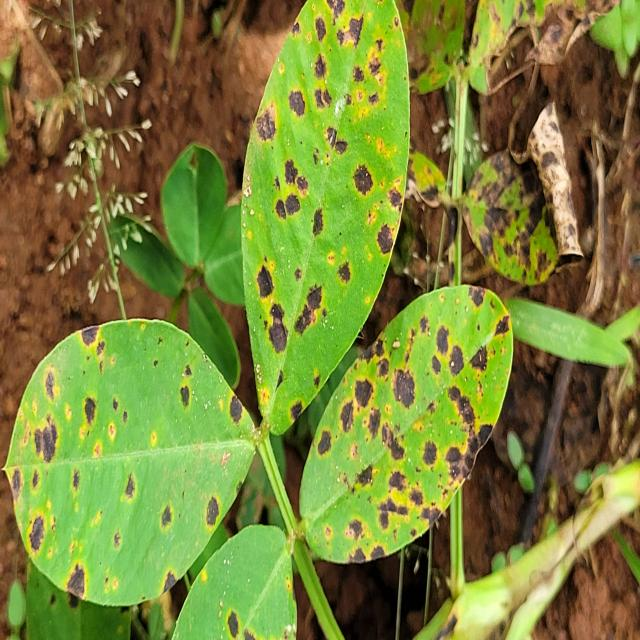Ground nut_tikka leaf spot: (240, 0, 408, 437), (0, 319, 256, 602), (301, 285, 514, 567)
